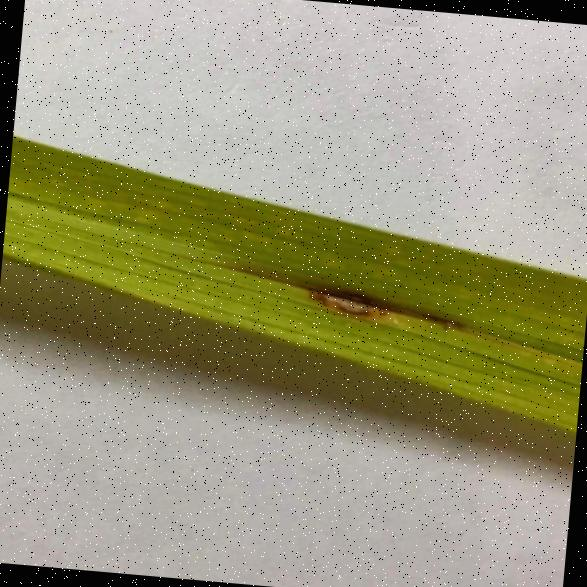Leaf_smut: (270, 220, 430, 348)
